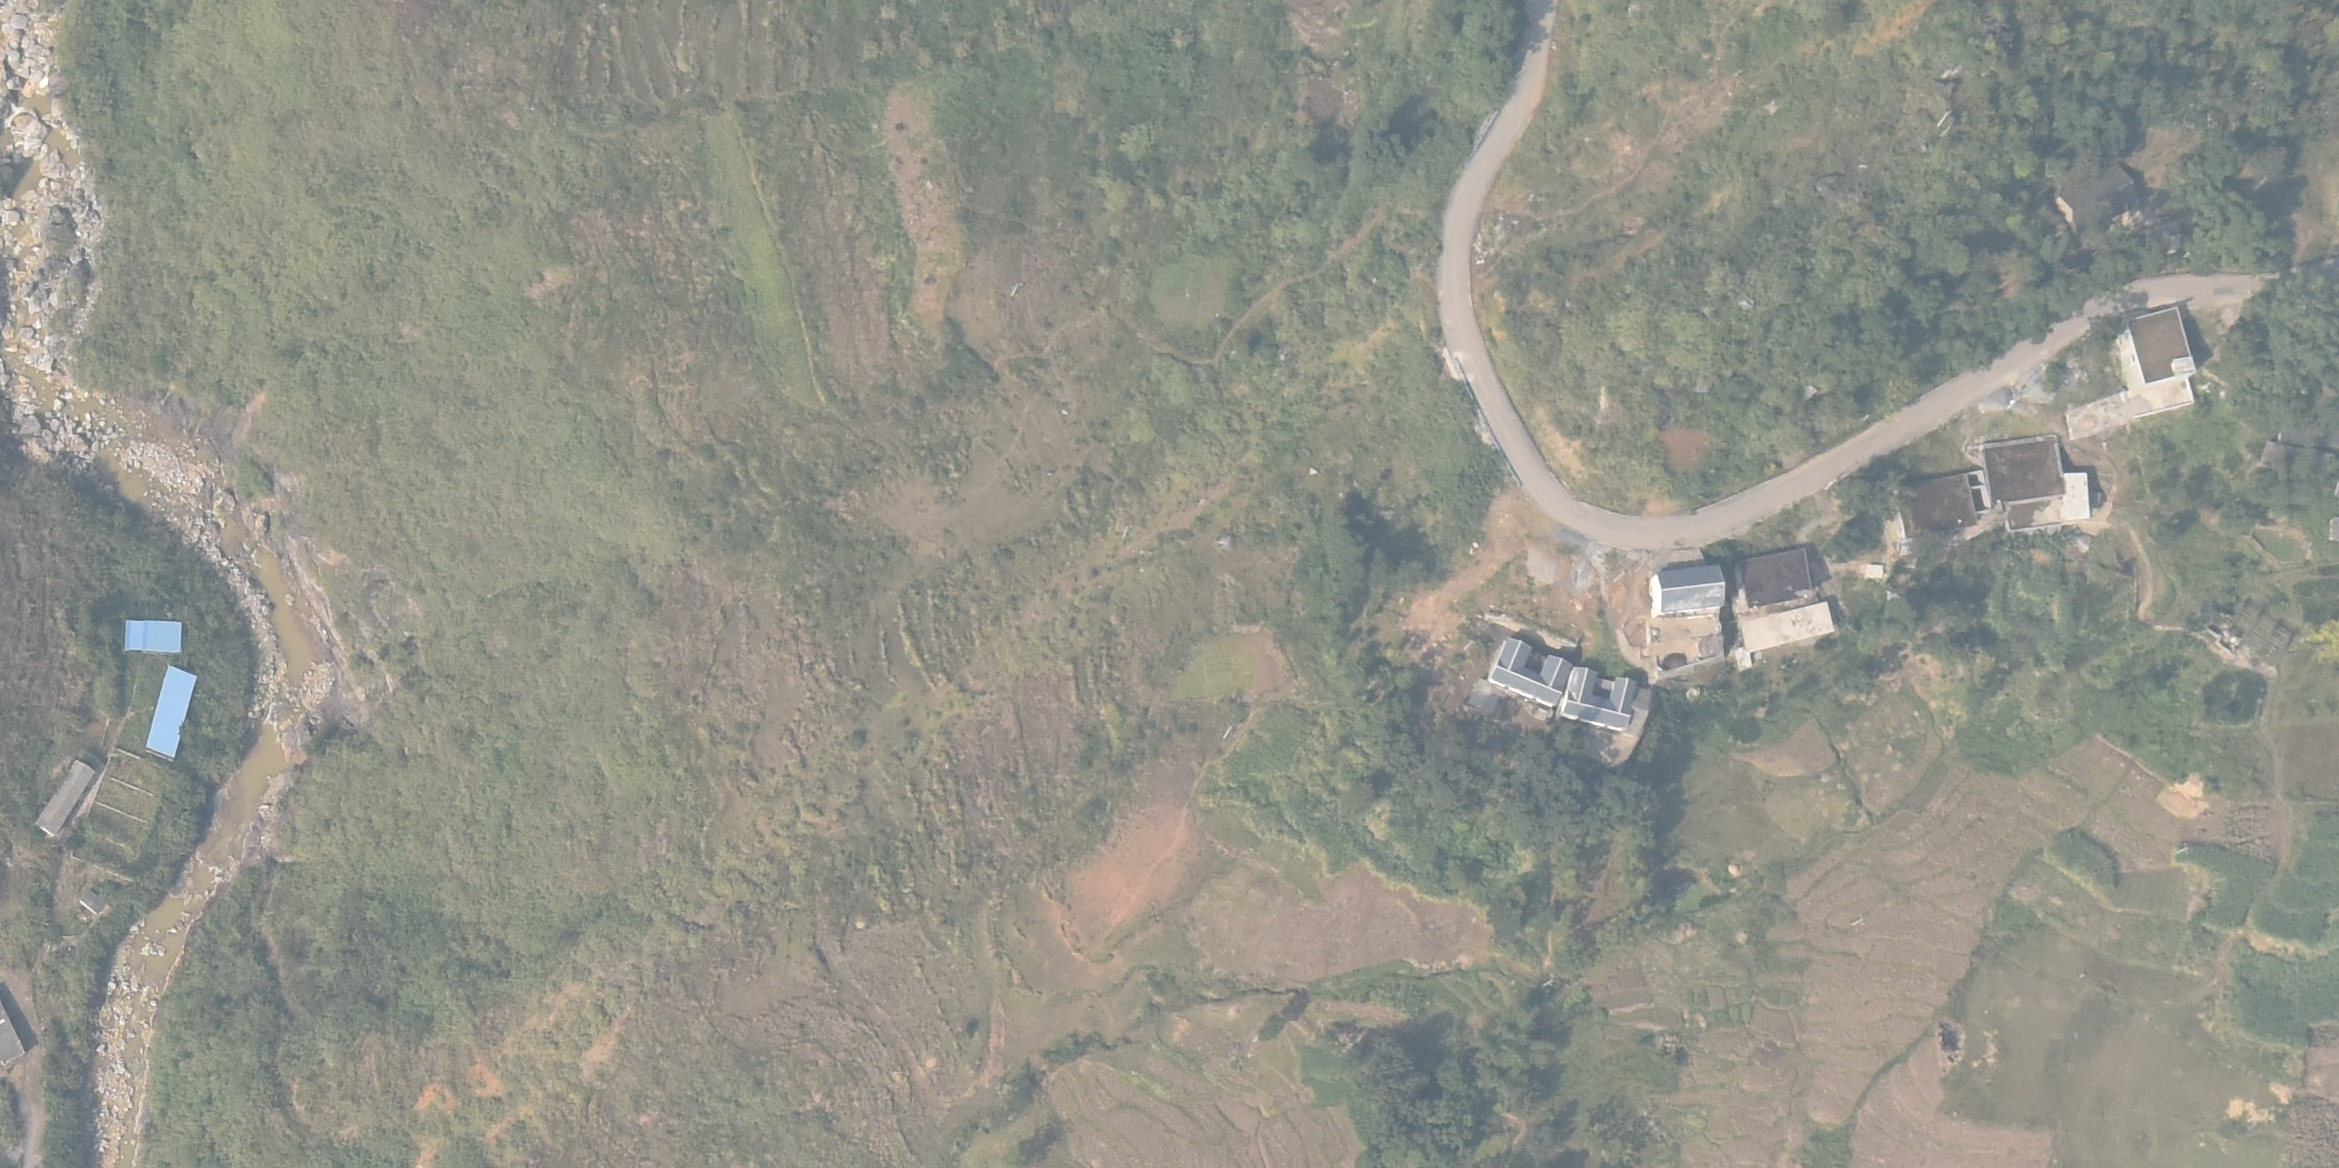building: (2103, 310, 2215, 385), (1891, 465, 1985, 547), (1569, 662, 1648, 756), (2053, 169, 2160, 237), (1979, 431, 2066, 510), (1738, 536, 1824, 604), (1639, 559, 1732, 621), (2062, 471, 2094, 518)
prefabricated-house: (31, 744, 95, 850), (1481, 635, 1572, 709), (145, 671, 206, 770), (115, 609, 201, 658)
